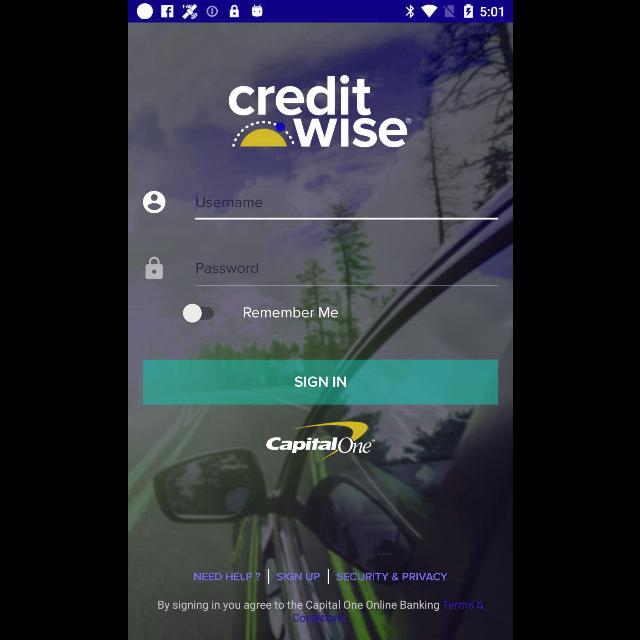backgroundimage: (128, 22, 512, 640)
icon: (142, 190, 166, 213), (145, 256, 163, 280)
image: (228, 74, 412, 148), (266, 422, 374, 460)
input: (195, 192, 498, 220), (195, 263, 498, 287)
switch: (182, 303, 212, 323)
text: (157, 600, 483, 622), (336, 572, 446, 582), (242, 308, 338, 318), (196, 196, 260, 208), (196, 262, 258, 274), (193, 572, 260, 582), (276, 572, 320, 582)
textbutton: (142, 360, 498, 404)
uppertaskbar: (128, 1, 512, 23)
